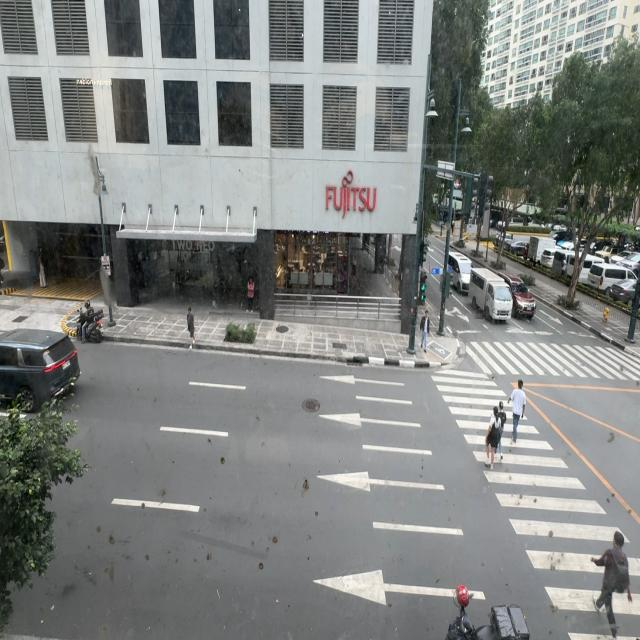crossing: (590, 535, 632, 638), (507, 379, 526, 442), (483, 405, 499, 471)
pedestrain: (186, 307, 196, 348), (420, 310, 429, 352), (247, 276, 255, 313), (0, 256, 5, 286)
